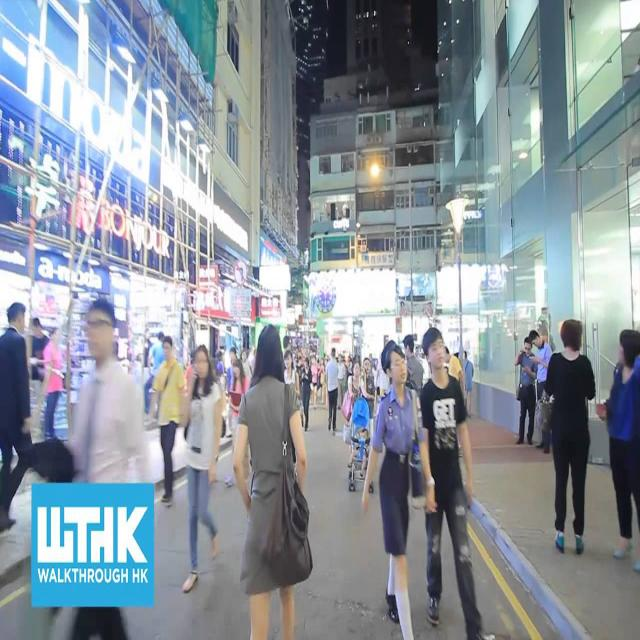body: (109, 327, 471, 444), (67, 297, 153, 640), (232, 322, 314, 639), (419, 327, 495, 639), (361, 338, 437, 639), (543, 318, 597, 556), (179, 343, 223, 594), (596, 328, 640, 572), (0, 300, 34, 535), (149, 333, 189, 508), (225, 358, 255, 489), (528, 330, 553, 455), (340, 360, 370, 464), (513, 335, 538, 446), (42, 326, 66, 440), (444, 344, 464, 458), (359, 357, 376, 450), (401, 334, 424, 396), (324, 347, 340, 432), (32, 316, 52, 382), (347, 427, 369, 480), (298, 355, 312, 432), (282, 348, 300, 402), (462, 349, 474, 418), (310, 354, 322, 410), (226, 346, 238, 396)
